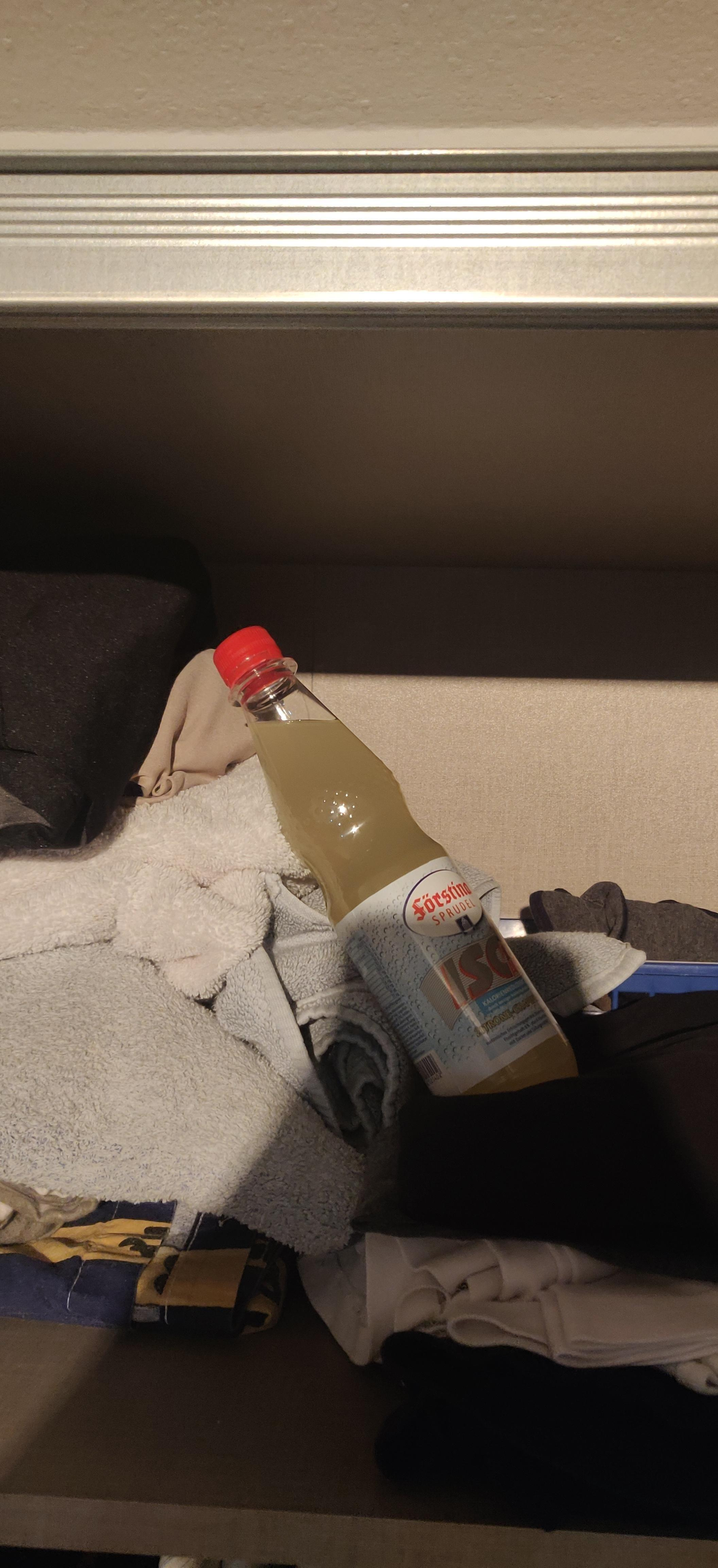bottle-plastic: (211, 625, 593, 1114)
